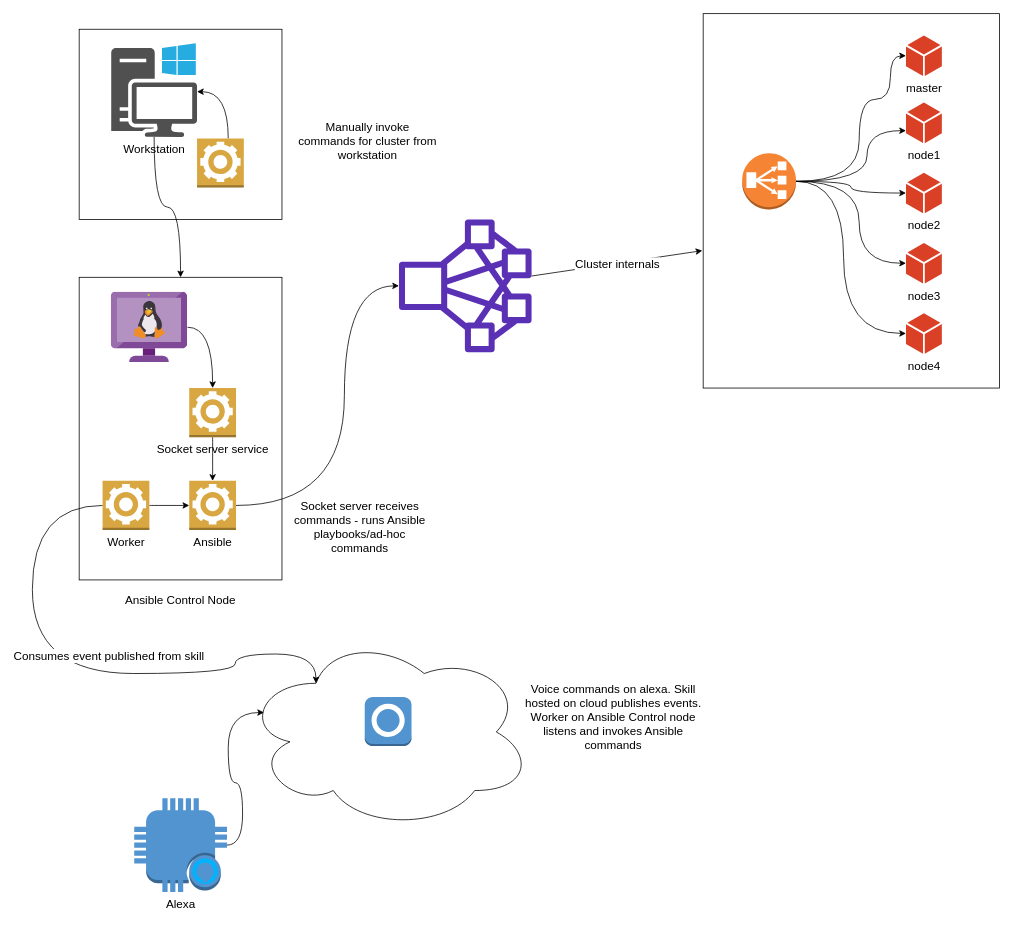
Some shapes in this 1013 by 925 pixel diagram are drawn without their labels. The shapes that lost their labels are listed below. From the top down, each one's centre as x and y in pixels, then its label:
[220,163]: Socket client service
[768,180]: load balancer (pi node)
[465,285]: Raspberry Pi Zero Cluster
[149,327]: Arch Linux VM
[388,721]: Alexa skill on cloud
